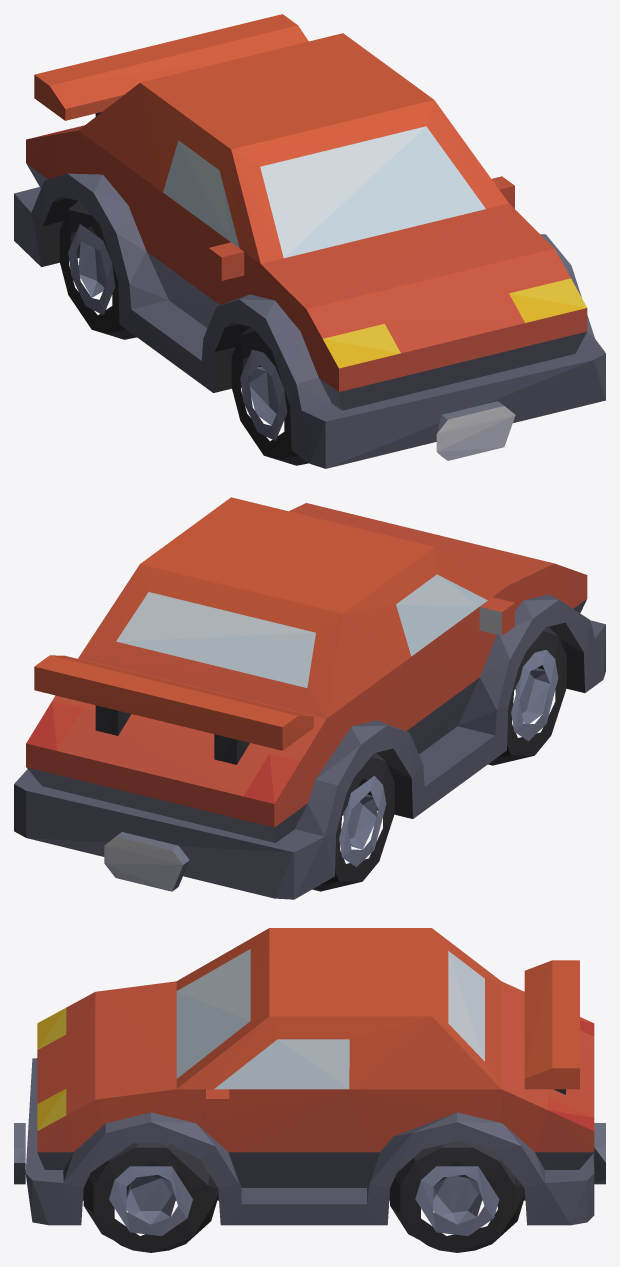
File: sedan_sports.glb
3 views of the same model, one above another, from view 1: azimuth 30°, elevation 25°; view 2: azimuth 150°, elevation 25°; view 3: azimuth 270°, elevation 25° (orthographic). The views are drawn at different scales.
Parts seen in each view (by area): view 1: sedan_sports; view 2: sedan_sports; view 3: sedan_sports.
Boxes of the visible parts, box(x1,y1,x2,y2) form: sedan_sports: box(14, 14, 605, 468); sedan_sports: box(14, 497, 605, 899); sedan_sports: box(14, 928, 605, 1252).
Bounding box in the file's own units: 1.3 × 1.1 × 2.55.
